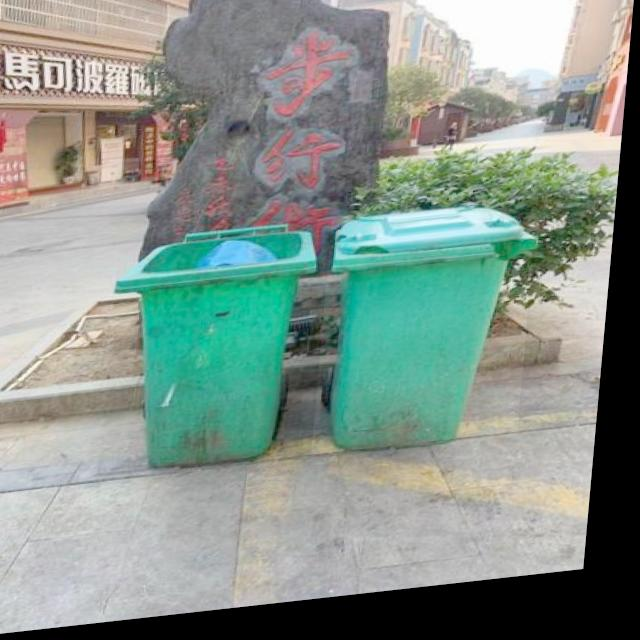garbage_bin: (320, 207, 543, 463), (107, 226, 323, 479)
